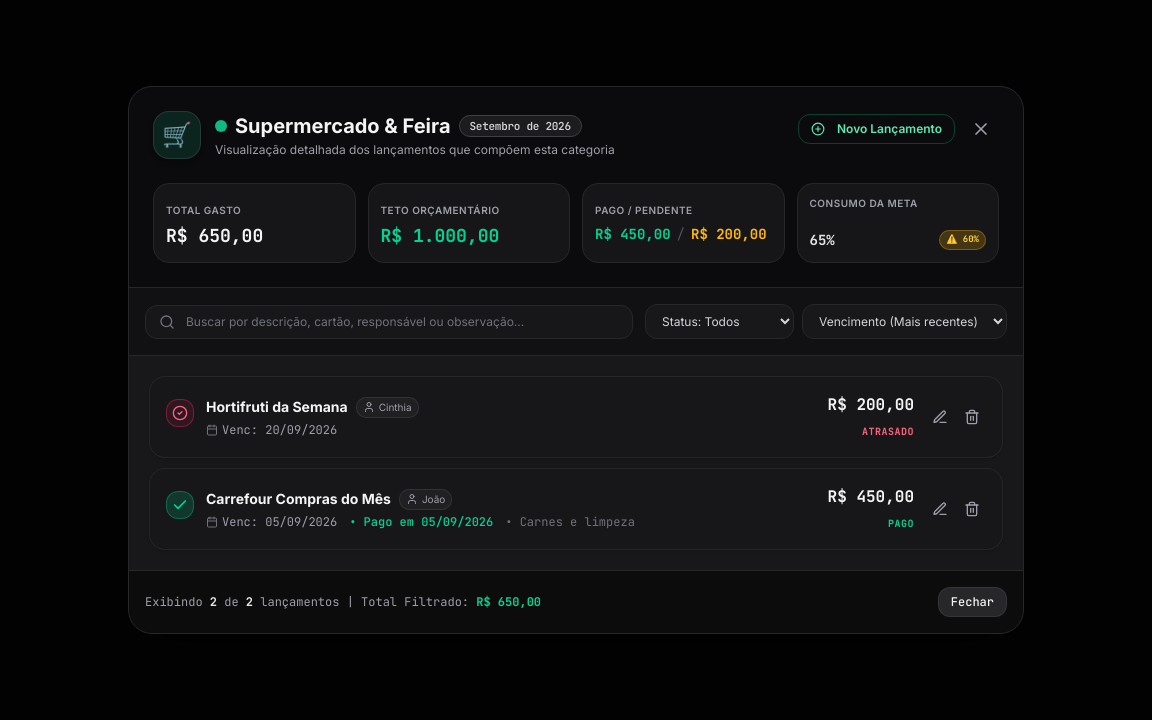
Test: Visualização de Lançamentos por Categoria (CategoryExpensesModal) › permite filtrar lançamentos por status (pago vs pendente)
The width and height of the screenshot is (1152, 720).
Select "Status: Pagos" in the 1st dropdown showing "Status: Todos" at [720, 322], box [645, 304, 794, 339]
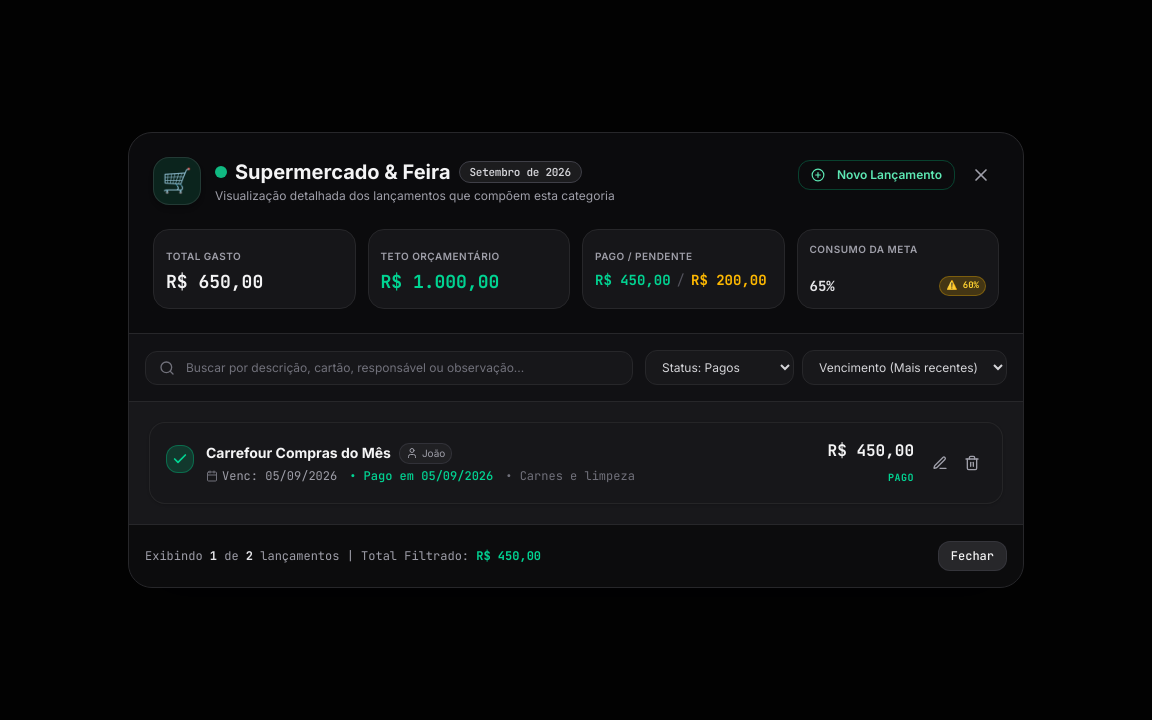
Expected: the heading "Carrefour Compras do Mês" is shown, [206, 443, 391, 463]
Expected: the heading "Hortifruti da Semana" is gone
